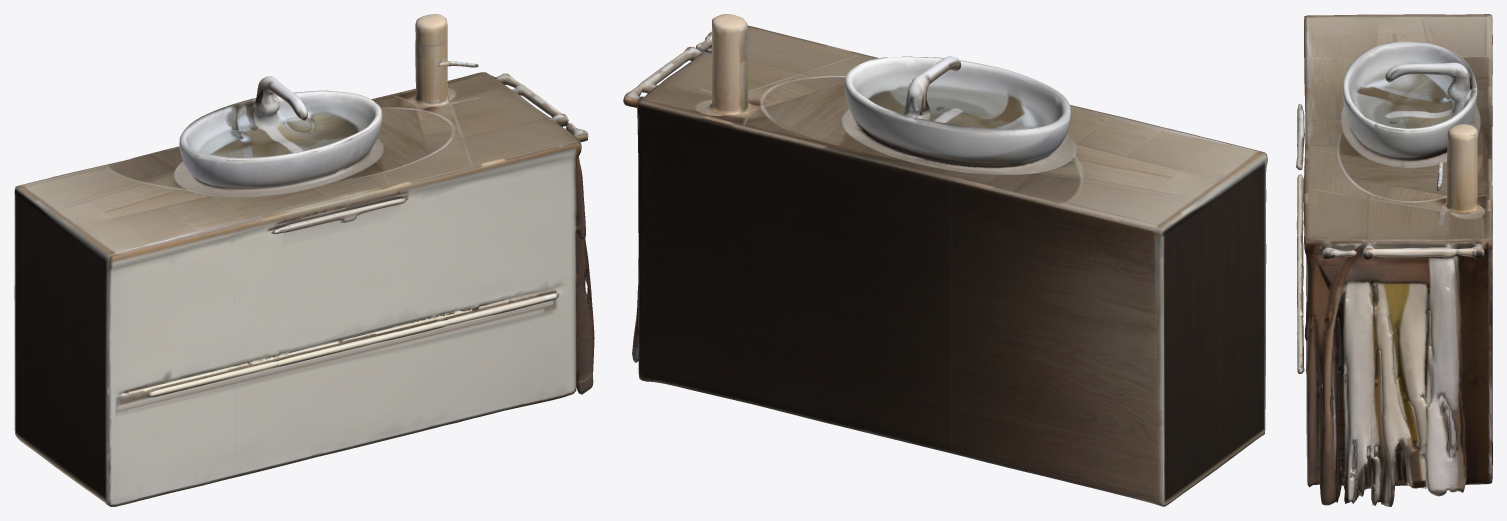
The model's file is bathroom_sink.glb.
3 renders of one model, left to right at view 1: azimuth 30°, elevation 25°; view 2: azimuth 150°, elevation 25°; view 3: azimuth 270°, elevation 25°, orthographic. The views are drawn at different scales.
Size of the model in its own units: 2.01 by 1.32 by 0.6949.
1 material, 1 textured.
